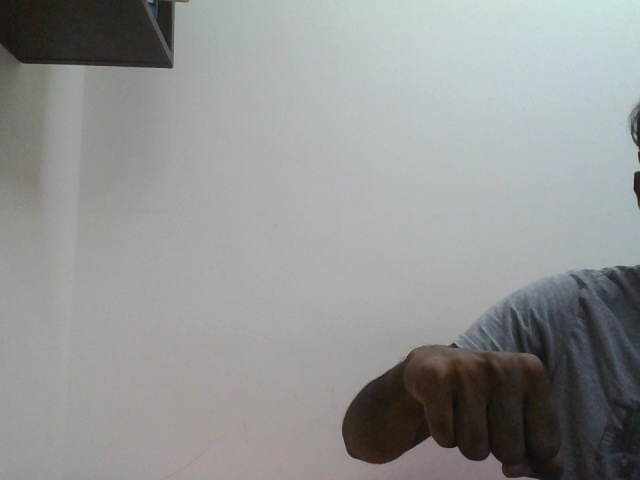Yes: (420, 353, 566, 480)
